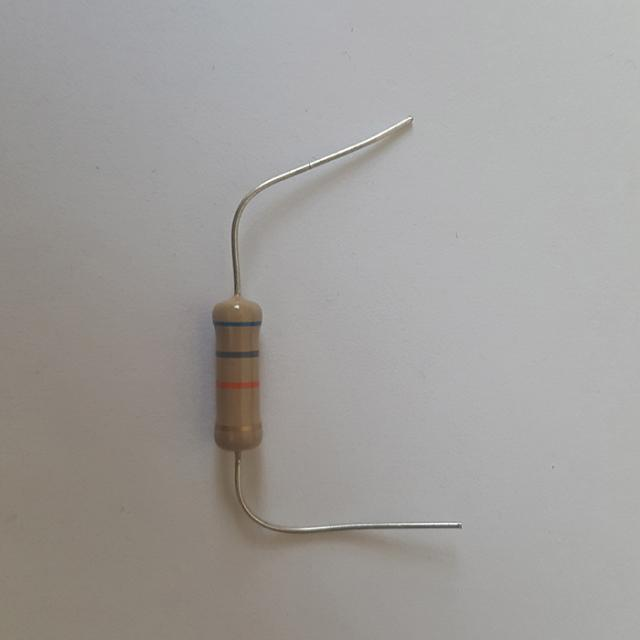blue: (215, 321, 258, 327)
gold: (218, 423, 260, 432)
grey: (219, 351, 256, 358)
orange: (221, 381, 256, 388)
resistor: (201, 285, 272, 456)
